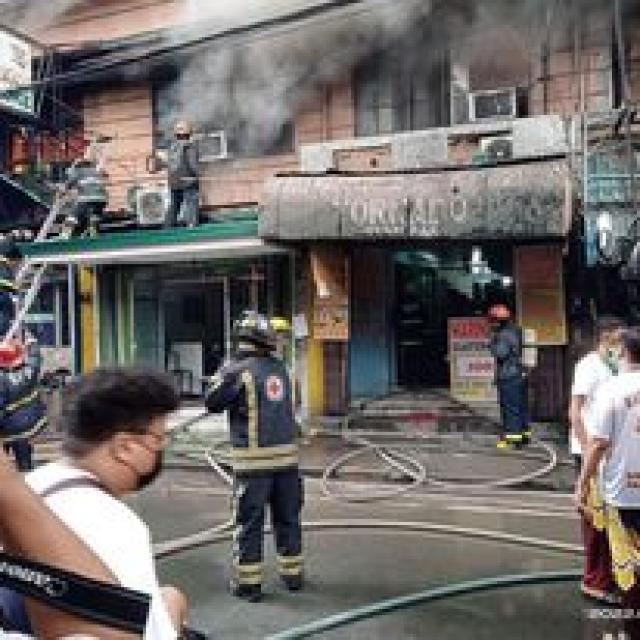Smoke: (178, 19, 408, 90)
